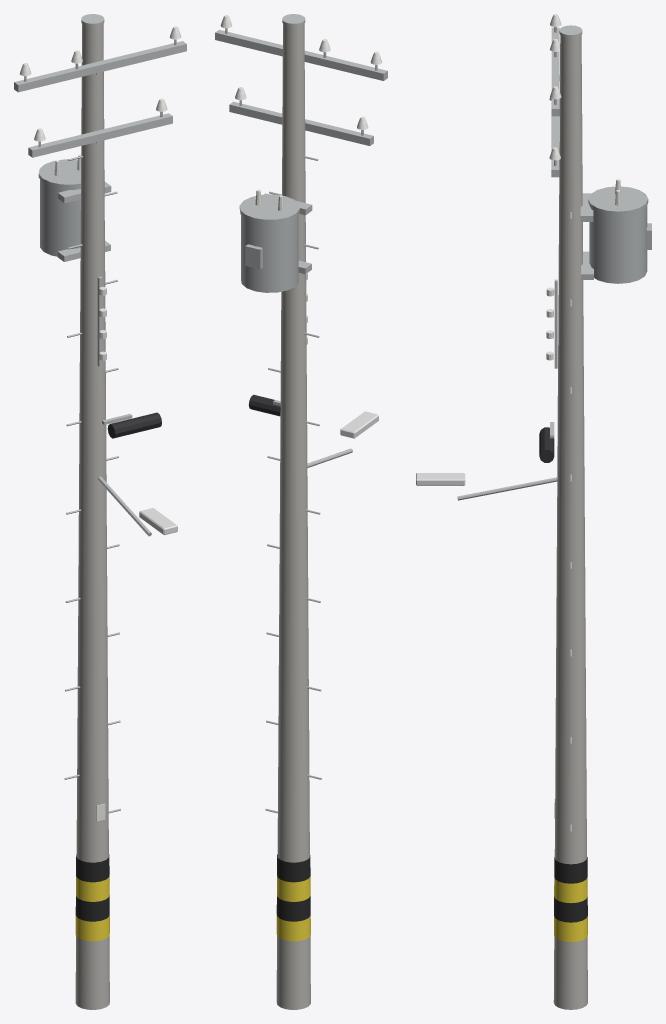
The model's file is utility_pole.glb.
The picture shows the model from 3 angles, left to right: view 1: azimuth 30°, elevation 25°; view 2: azimuth 150°, elevation 25°; view 3: azimuth 270°, elevation 25°; orthographic projection.
Visible parts, largest first — view 1: utility_pole; view 2: utility_pole; view 3: utility_pole.
Boxes of the visible parts, x1,y1,x2,y2 form: utility_pole: (14, 14, 186, 1009); utility_pole: (215, 14, 387, 1009); utility_pole: (416, 14, 651, 1009).
Size of the model in its own units: 1.8 by 10.03 by 2.21.
